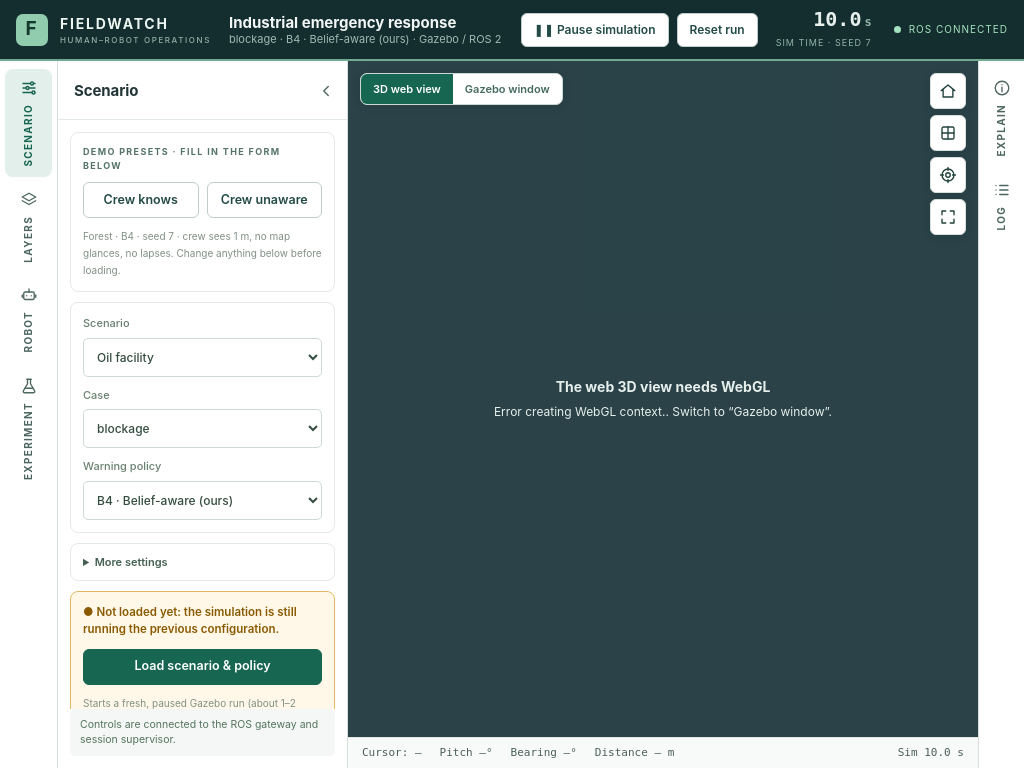
Test: keeps the warning and event log on the right, next to the explanation
Expected: the navigation bar named "Right panel" is shown, x1=978 y1=61 x2=1023 y2=767
Click the tab "Log".
click(1002, 205)  # box x1=984 y1=171 x2=1019 y2=240
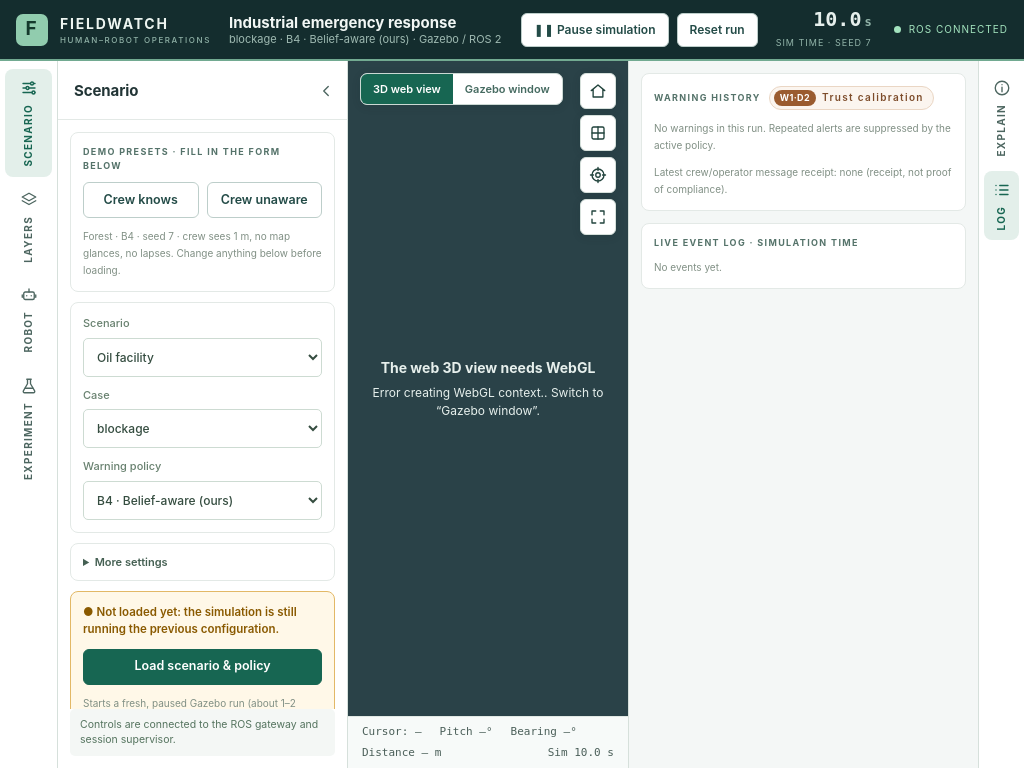
Result: the text "LIVE EVENT LOG · SIMULATION TIME" is shown at x1=654 y1=236 x2=859 y2=248
